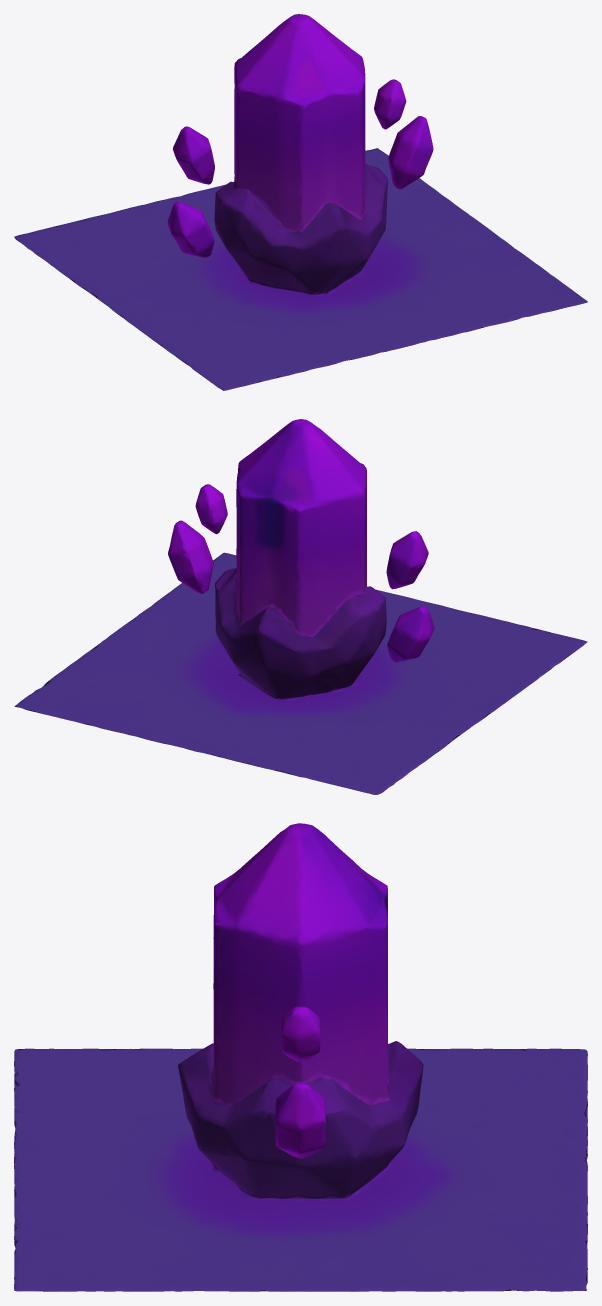
Rendered from mat_void.glb.
3 renders of one model, top to bottom at view 1: azimuth 30°, elevation 25°; view 2: azimuth 150°, elevation 25°; view 3: azimuth 270°, elevation 25°, orthographic. The views are drawn at different scales.
Parts seen in each view (by area): view 1: geometry_0; view 2: geometry_0; view 3: geometry_0.
Boxes of the visible parts, x1=… form: geometry_0: x1=14, y1=14, x2=587, y2=390; geometry_0: x1=14, y1=419, x2=587, y2=794; geometry_0: x1=14, y1=823, x2=587, y2=1291.
Size of the model in its own units: 1 by 0.7065 by 1.
Materials: 1 (1 with a texture image).
